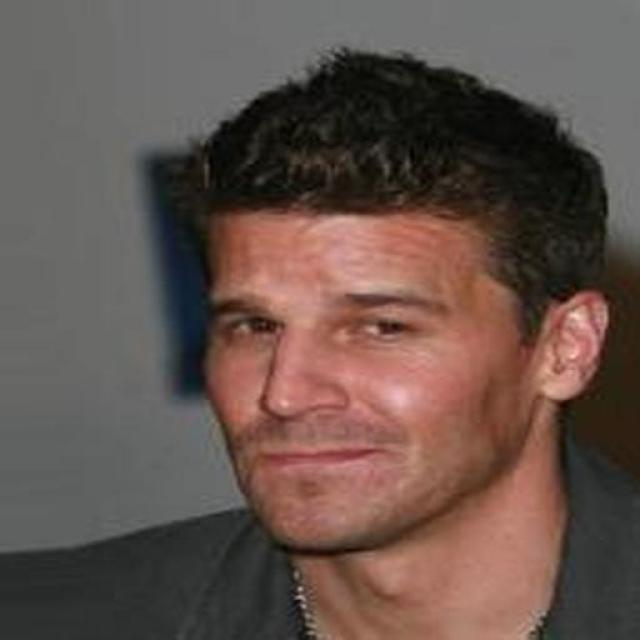bareface: (203, 218, 509, 532)
